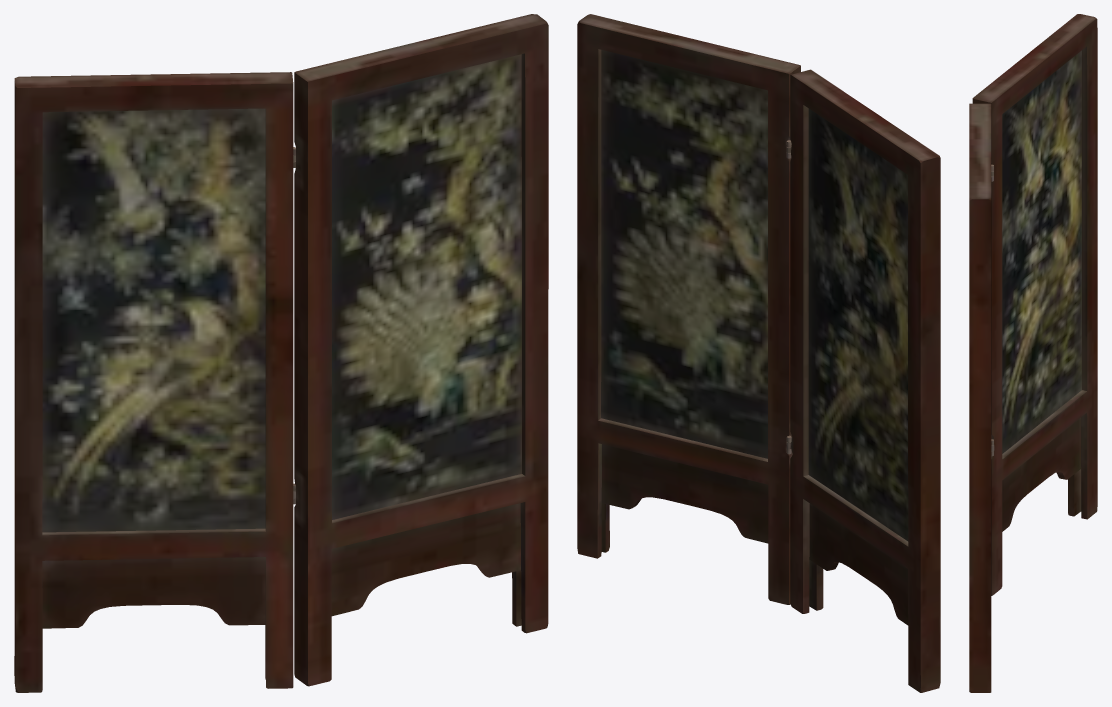
The model's file is screen.glb.
3 views of the same model, side by side, from view 1: azimuth 30°, elevation 25°; view 2: azimuth 150°, elevation 25°; view 3: azimuth 270°, elevation 25° (orthographic). The views are drawn at different scales.
Parts seen in each view (by area): view 1: chinese_screen_panels_b, chinese_screen_panels_a; view 2: chinese_screen_panels_a, chinese_screen_panels_b; view 3: chinese_screen_panels_b, chinese_screen_panels_a.
Boxes of the visible parts, bbox=[...] form: chinese_screen_panels_b: bbox=[14, 72, 295, 692]; chinese_screen_panels_a: bbox=[293, 14, 548, 686]; chinese_screen_panels_a: bbox=[577, 14, 800, 604]; chinese_screen_panels_b: bbox=[786, 69, 940, 692]; chinese_screen_panels_b: bbox=[972, 14, 1097, 595]; chinese_screen_panels_a: bbox=[969, 103, 993, 692].
Size of the model in its own units: 1.29 by 1.6 by 0.3768.
1 material, 1 textured.
